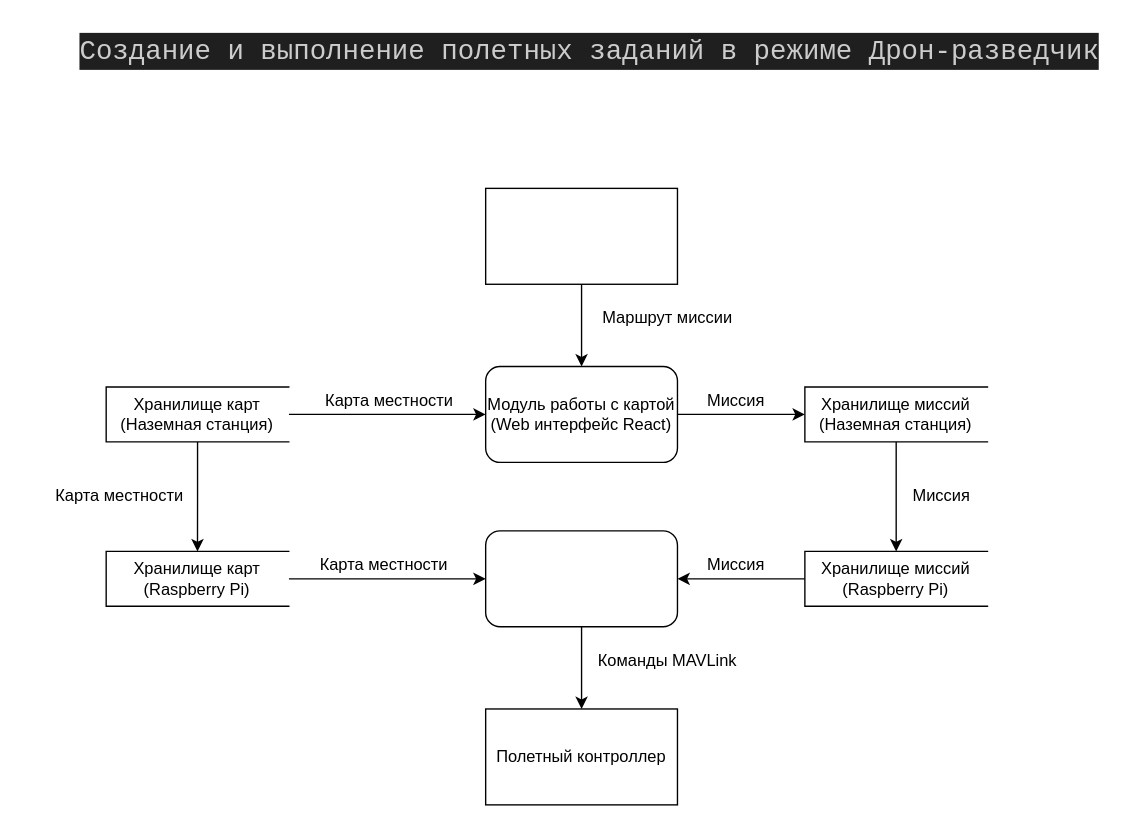
This 1122x829 diagram has some shape labels left out. The box of each missing label's shape, as (x1, y1, x2, y2) in pixels:
Модуль автопилота (API Raspberry Pi): (484, 530, 677, 627)
Оператор наземной станции: (484, 187, 677, 284)
